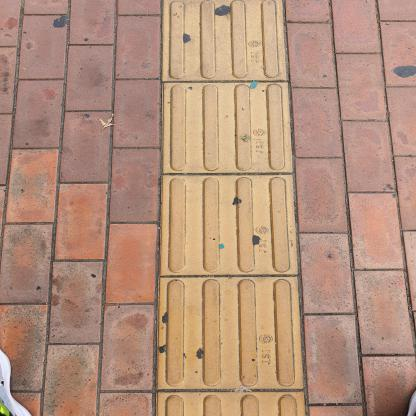podotacti: (144, 0, 316, 415)
